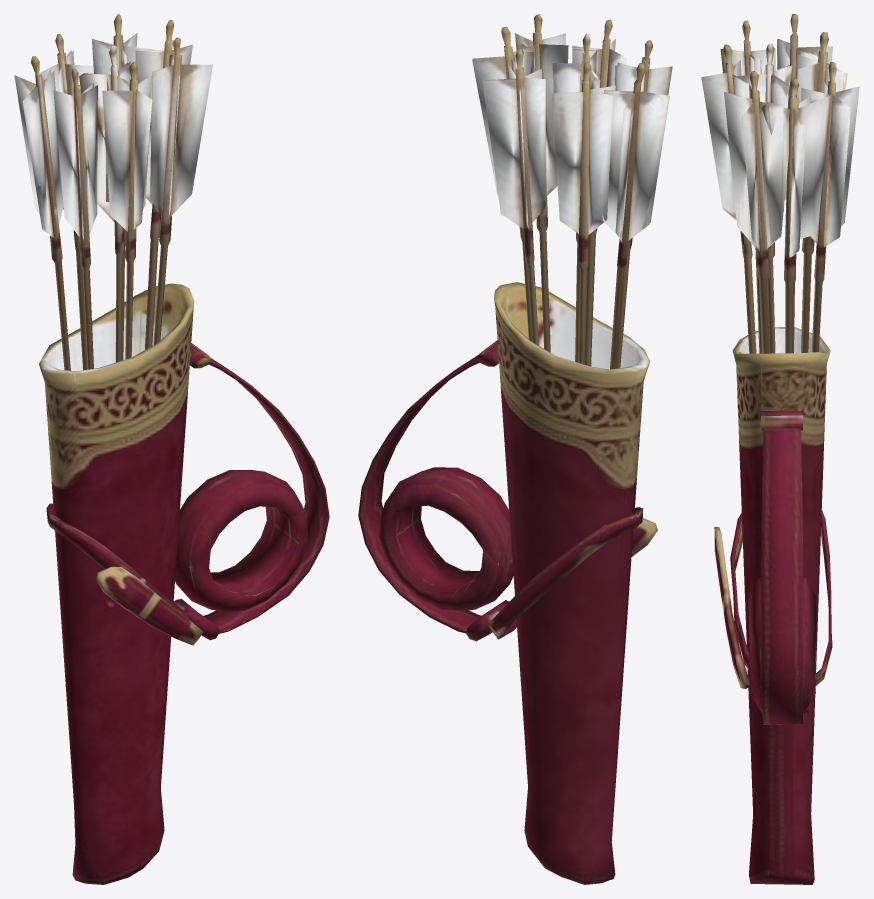
The model's file is prop_quiver.glb.
3 views of the same model, side by side, from view 1: azimuth 30°, elevation 25°; view 2: azimuth 150°, elevation 25°; view 3: azimuth 270°, elevation 25° (orthographic).
Size of the model in its own units: 0.3751 by 0.9992 by 0.1701.
1 material, 1 textured.
